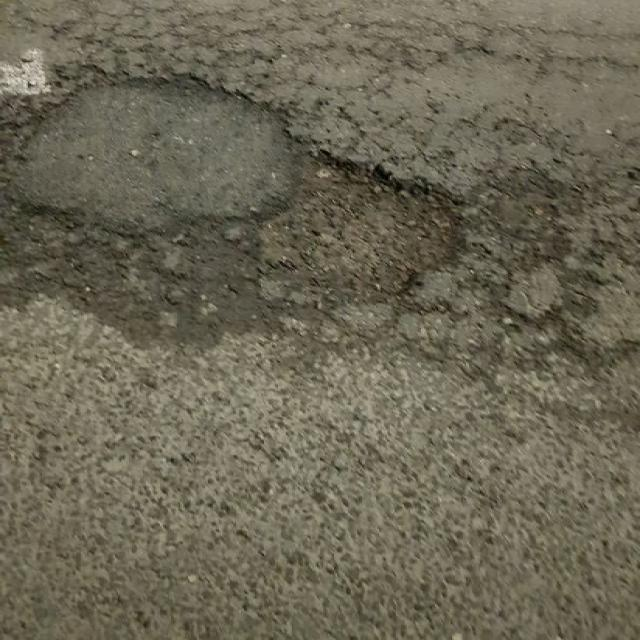Pothole: (205, 147, 485, 297)
